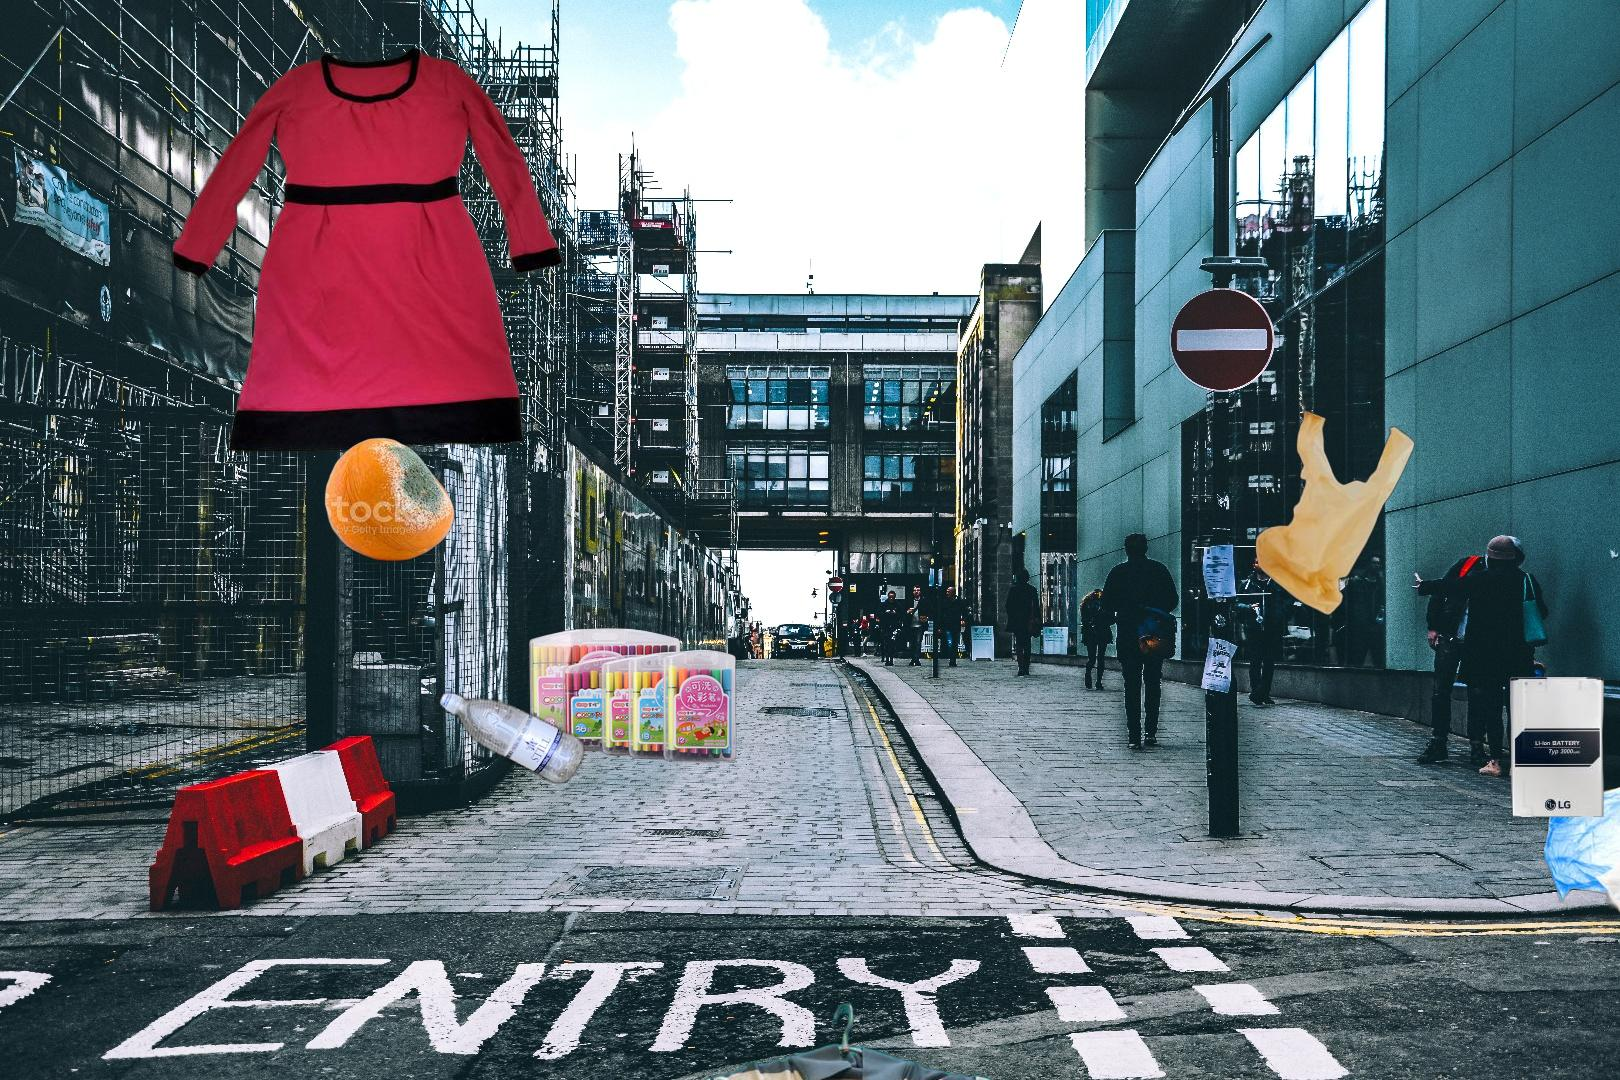battery: (1478, 677, 1607, 817)
biological: (323, 435, 458, 564)
clothes: (169, 42, 567, 456), (647, 999, 1047, 1080)
penholder: (526, 626, 739, 765)
plastic-bag: (1254, 407, 1417, 618), (1540, 780, 1620, 951)
plastic-bottles: (435, 686, 589, 790)
